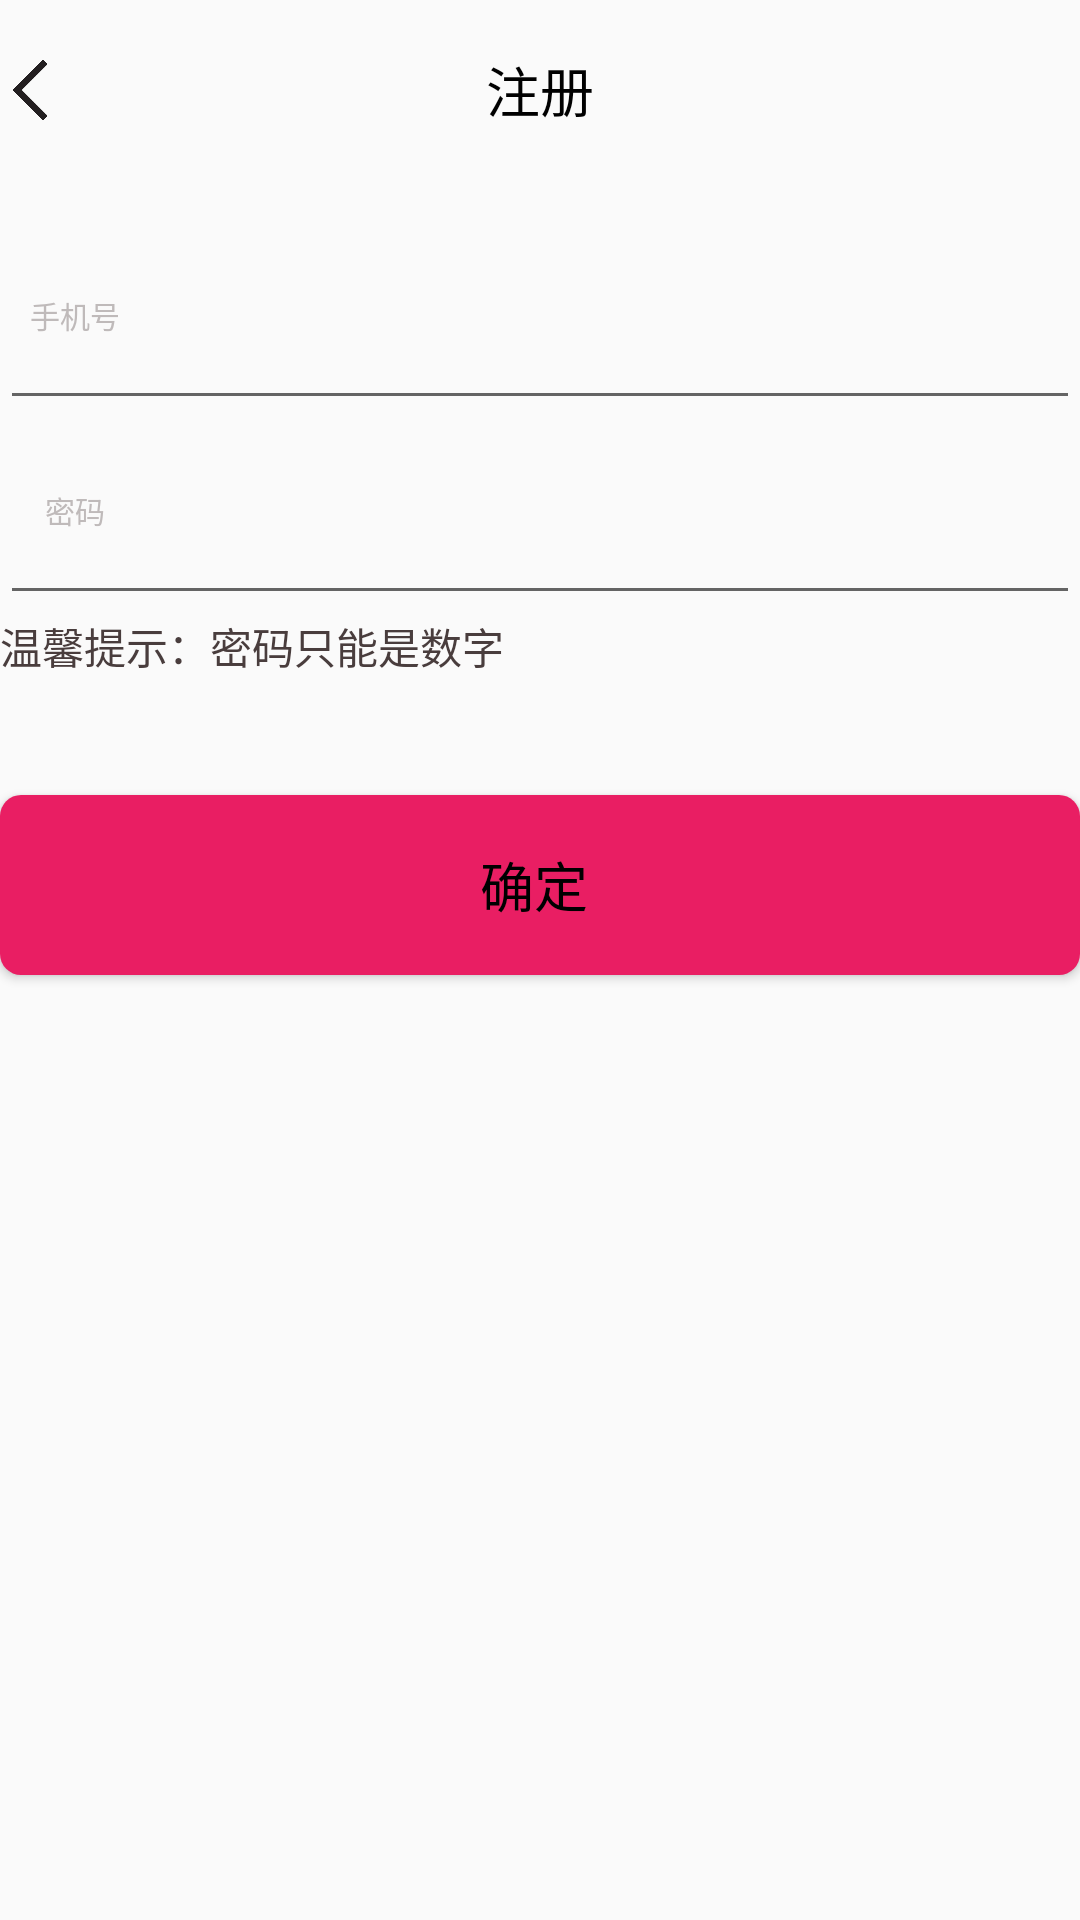

Where icons sit on this 1080*1920 app screen, as bbox=(x1, y1, x2, y2):
left: bbox=(13, 60, 47, 120)
